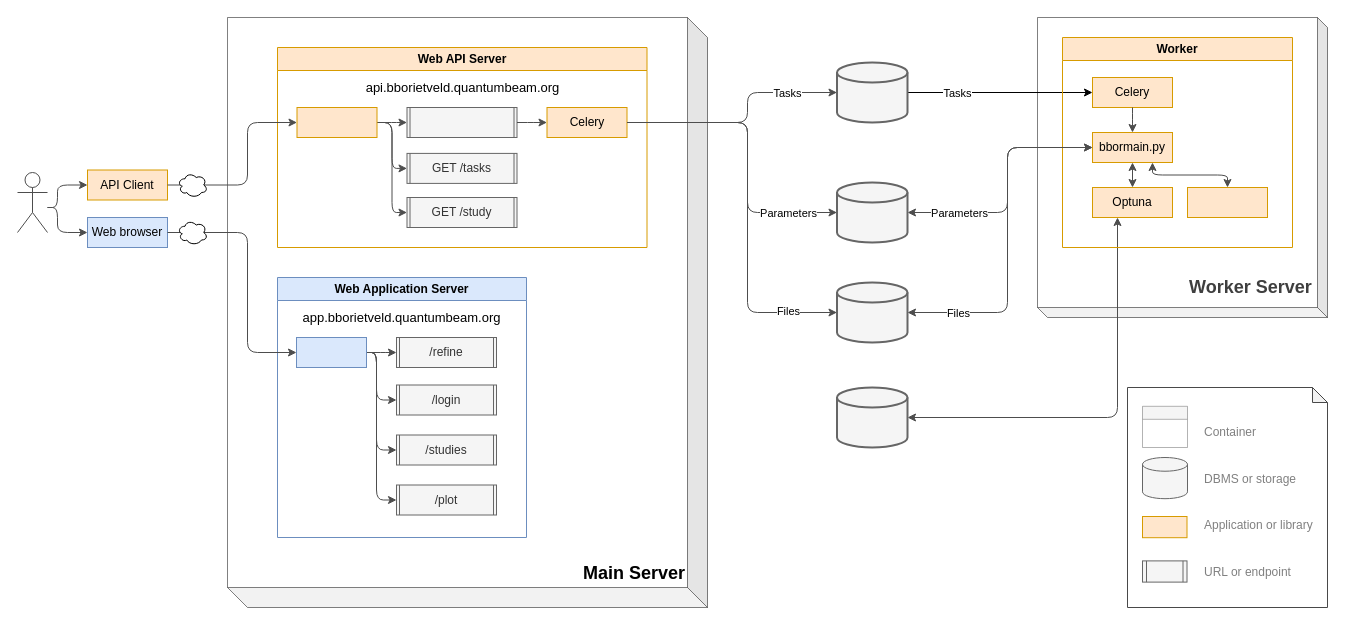
The diagram is 1350 pixels wide and 625 high, and some of its shapes have lost their labels. The shapes that lost their labels are listed below. From the top down, each one's centre as x and y in pixels, then its label:
At point 872,92: "Task Queue".
At point 336,122: "FastAPI".
At point 461,122: "POST /task/study".
At point 872,212: "Main DB".
At point 1227,202: "GSAS-II".
At point 872,312: "File system".
At point 331,352: "Dash".
At point 872,417: "Optuna Backend".
